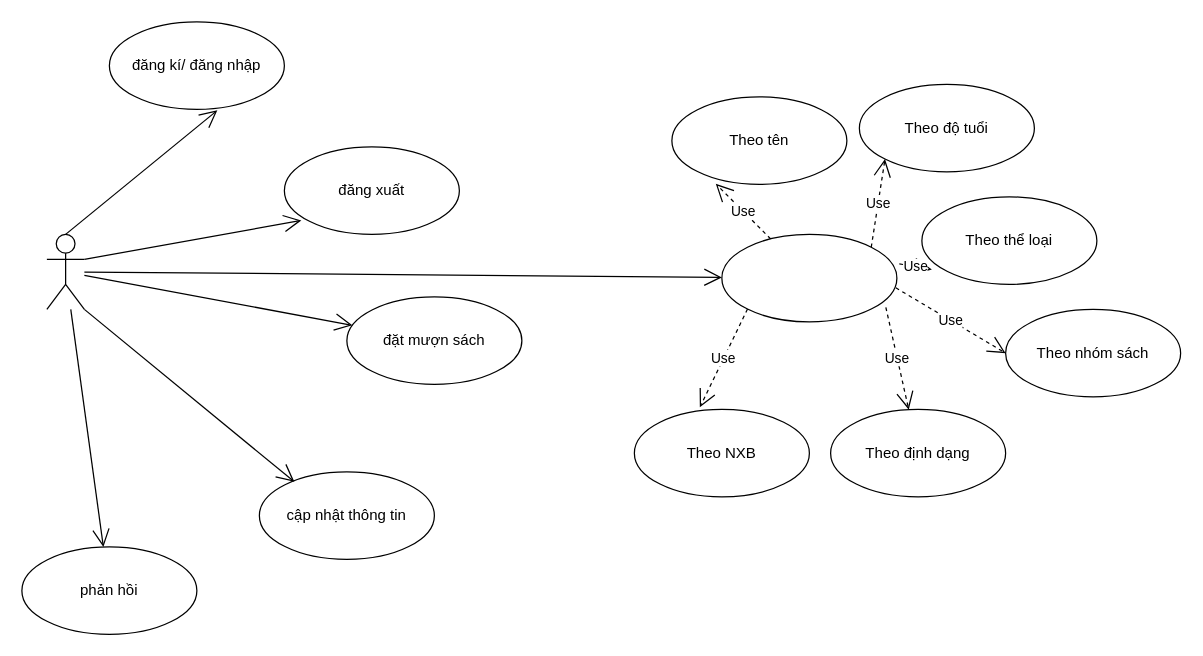
This 1203x656 diagram has some shape labels left out. The shapes that lost their labels are listed below. From the top down, each one's box as (x1, y1, x2, y2) in pixels, then its label:
(46, 233, 84, 309): DocGia
(721, 233, 897, 322): Tìm kiếm
